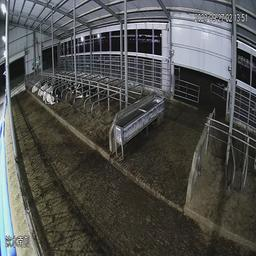cow: (74, 81, 99, 99), (45, 88, 61, 108), (43, 80, 54, 102), (37, 82, 49, 99), (31, 80, 43, 93)
